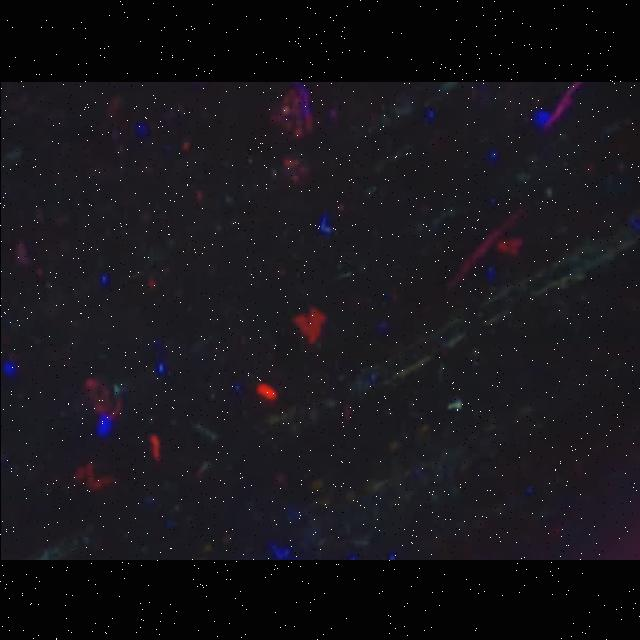microbeads: (446, 397, 462, 409)
